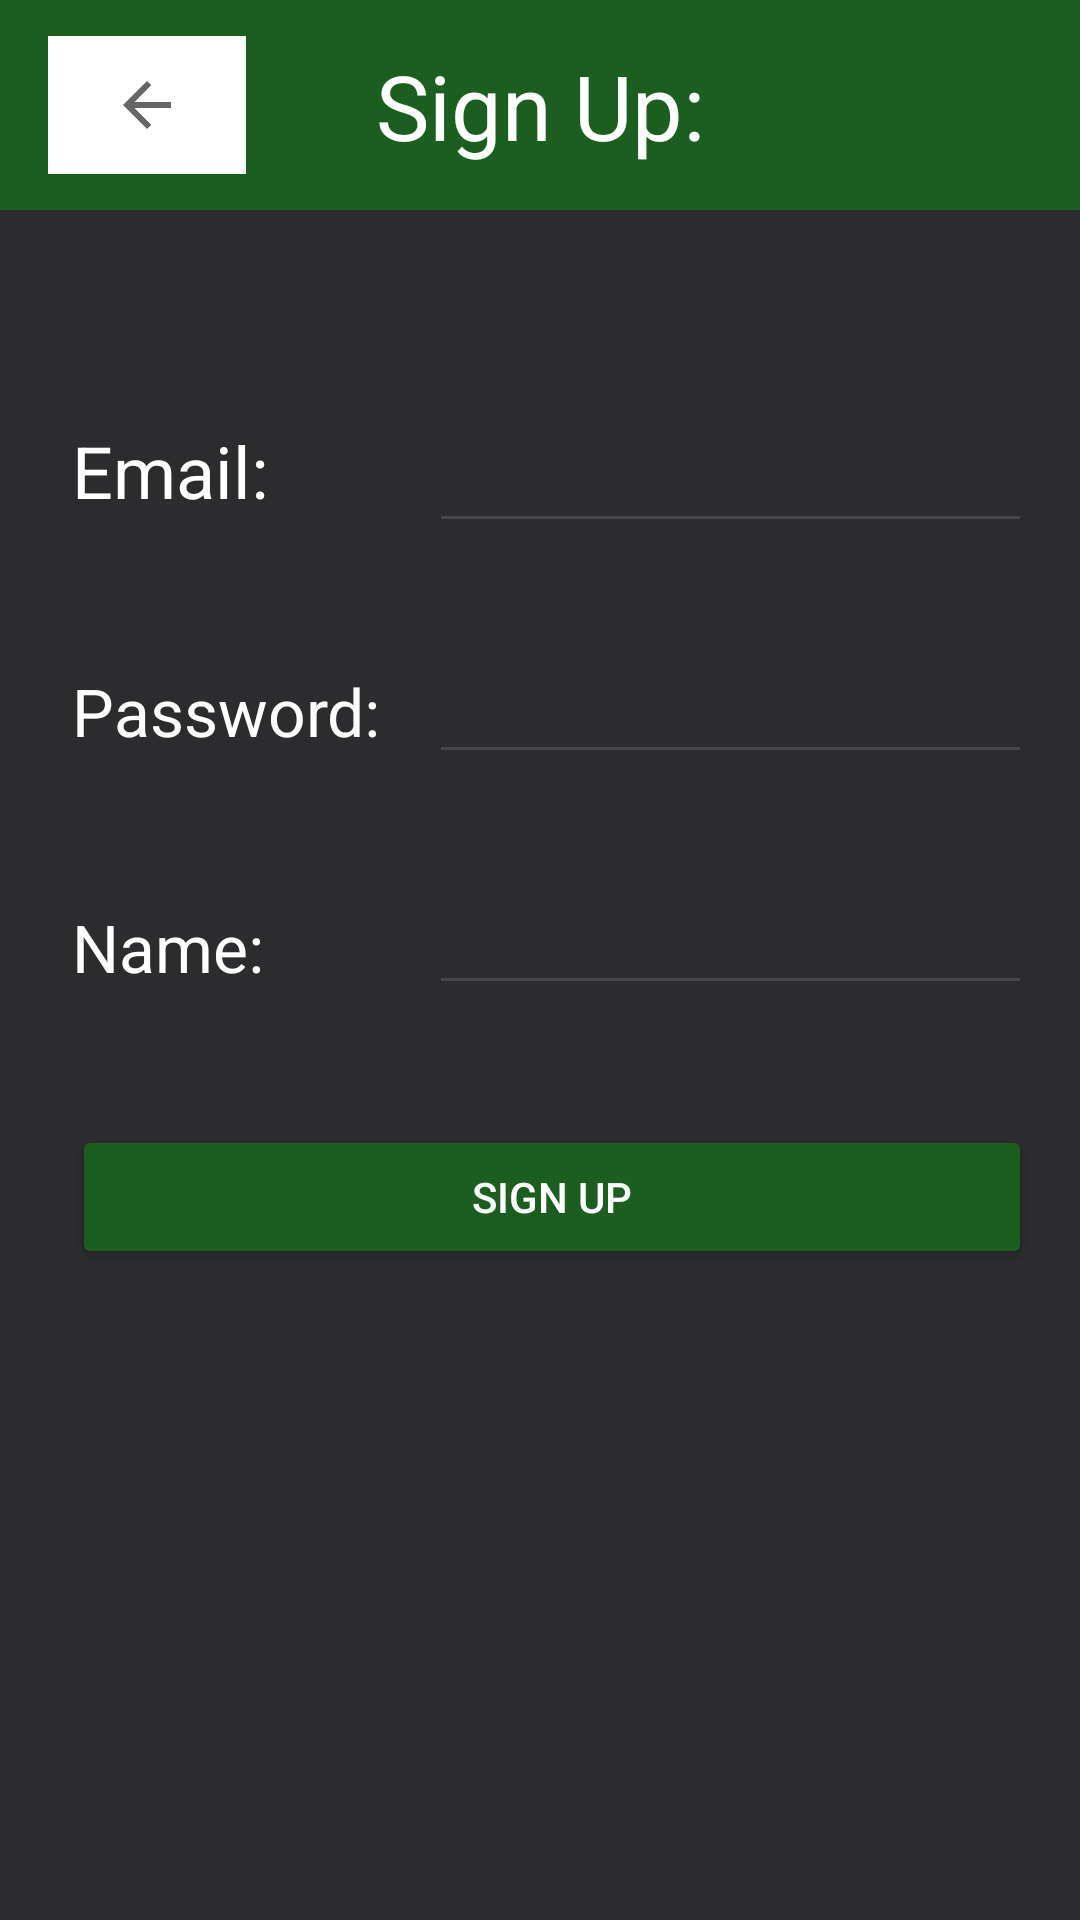

Named icons in this screenshot (1080 x 1920) and their centers, [x,y]:
back arrow: [147,105]
